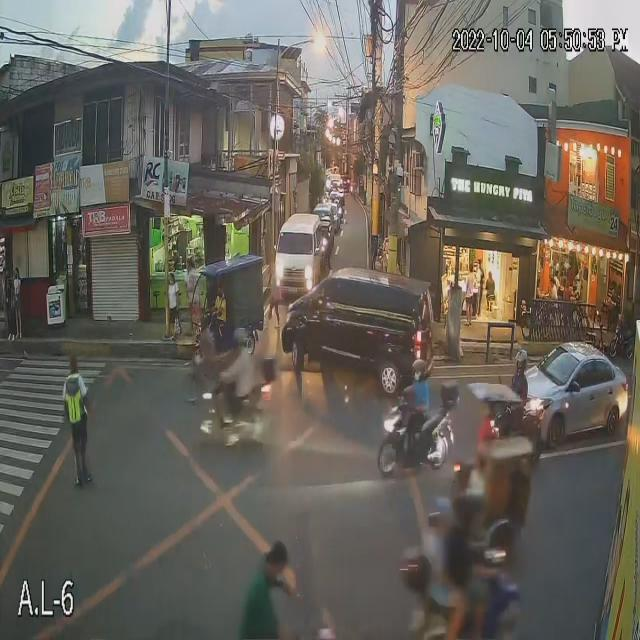helmet: (458, 494, 487, 531), (427, 496, 454, 532), (408, 360, 432, 386), (508, 352, 530, 374), (230, 329, 252, 350)
motorcycle: (386, 578, 534, 640), (370, 408, 458, 482), (200, 385, 290, 453), (412, 418, 489, 482)
rider: (448, 531, 492, 612), (421, 531, 456, 610), (223, 352, 255, 417), (402, 384, 435, 443), (451, 381, 478, 442)
